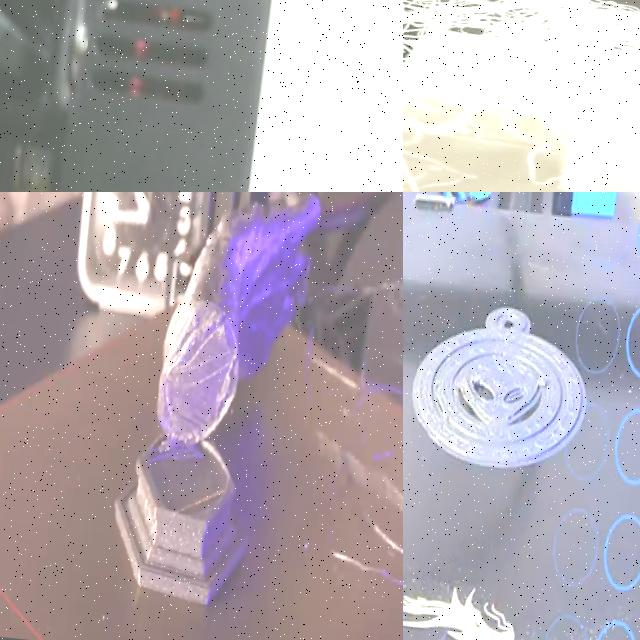spaghetti: (277, 221, 403, 600), (403, 0, 640, 192)
